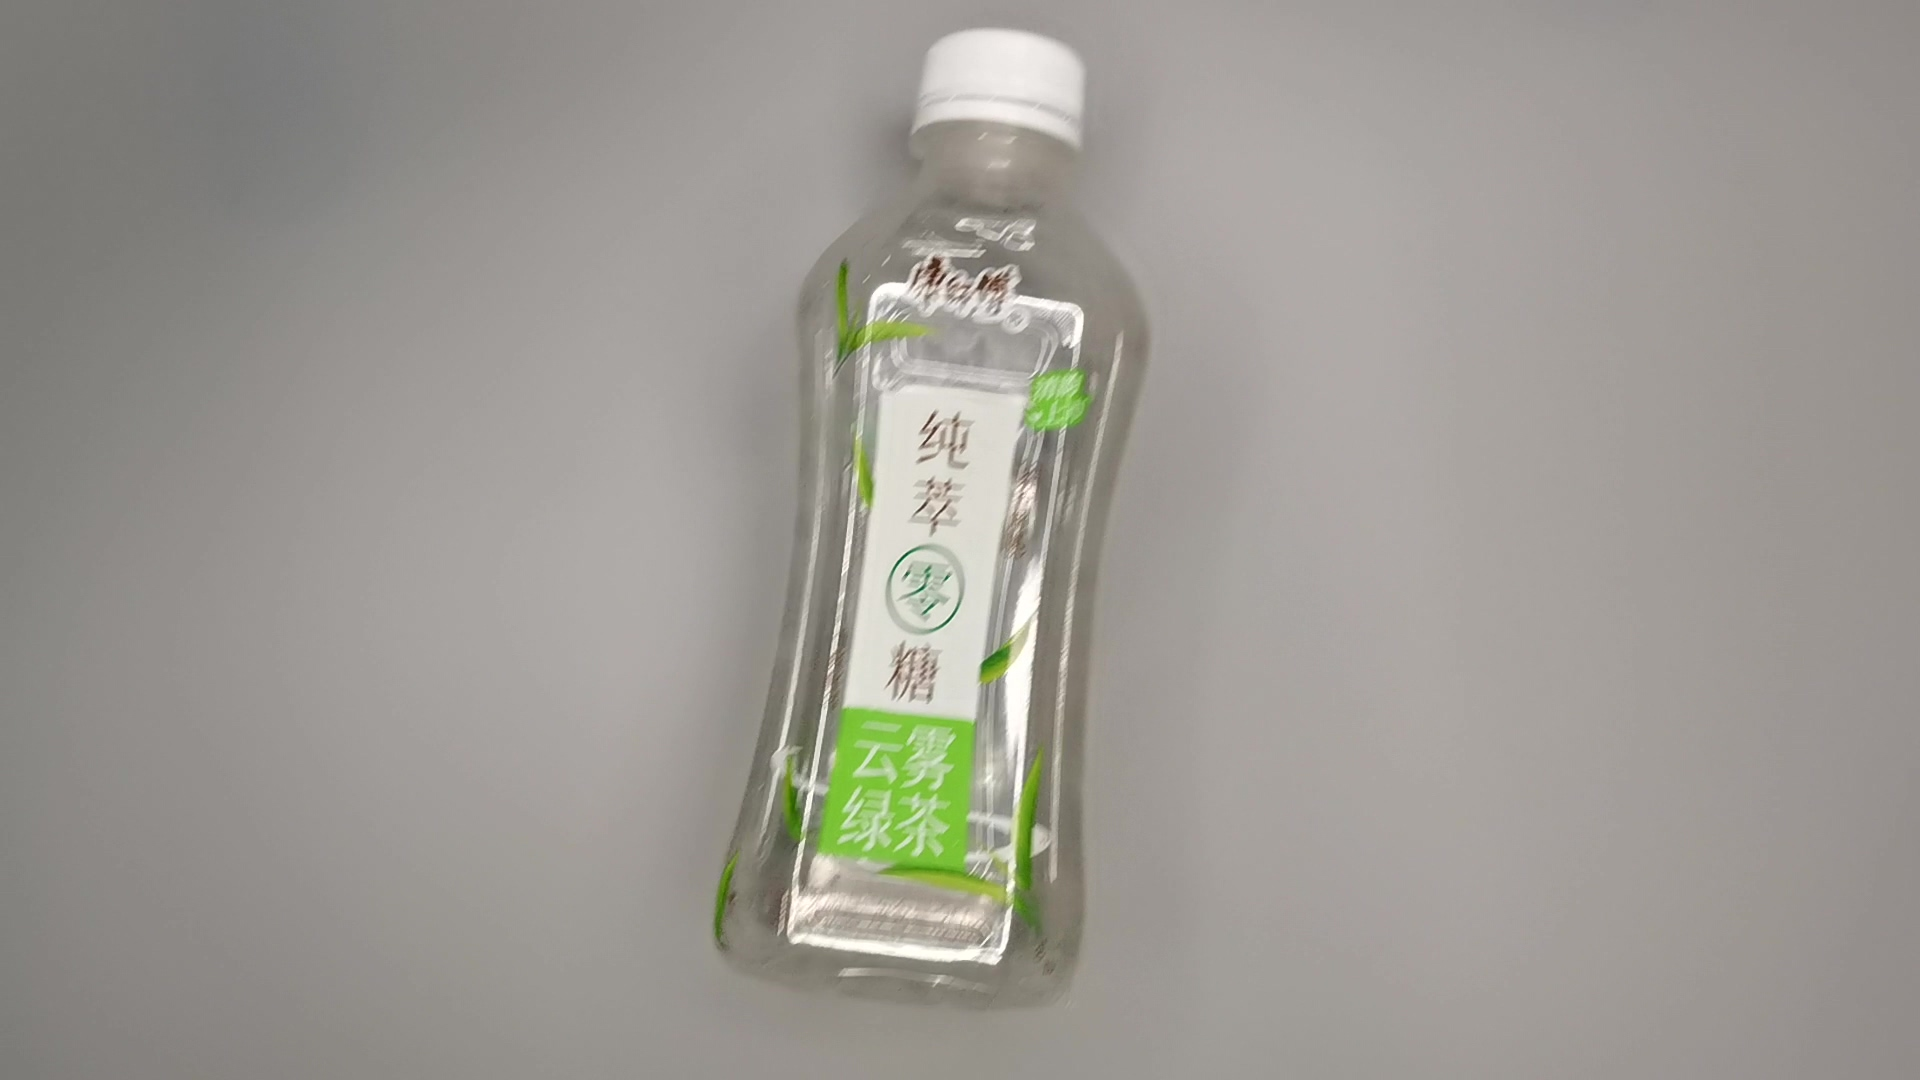bottle: (700, 20, 1145, 1011)
